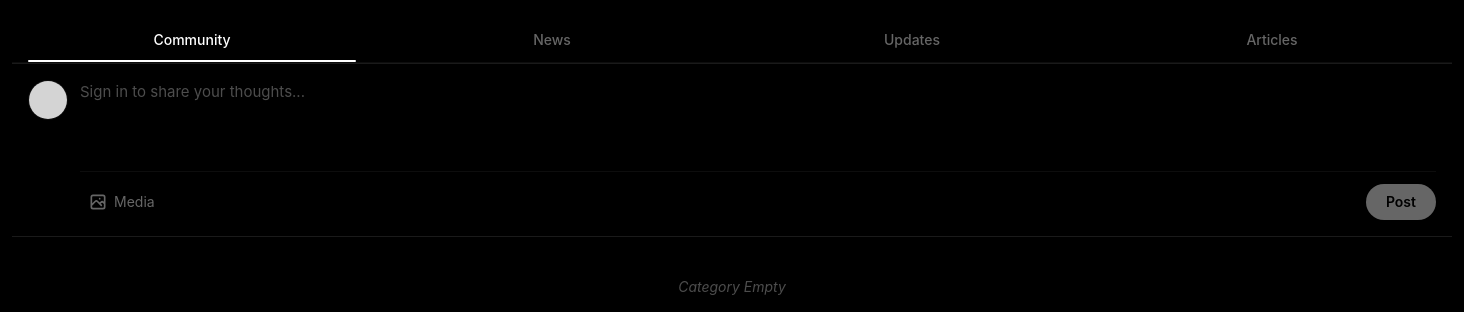
Test case: FeedPage › the Articles tab › offers the same Following toggle and category chips
The image size is (1464, 312).
Click the button "Articles" at (1272, 40), box left=1092, top=18, right=1452, bottom=62
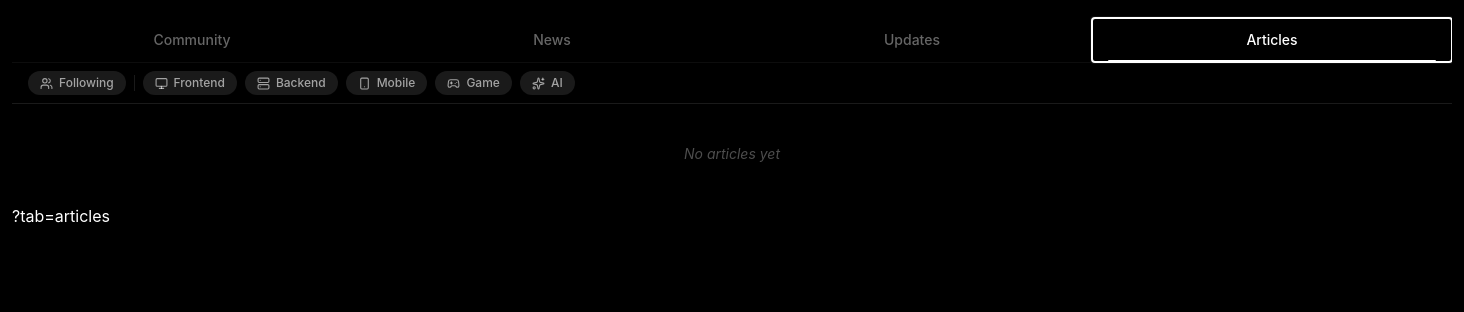
Expected: the button "Following" is shown, left=28, top=71, right=126, bottom=95
Expected: the button "Backend" is shown, left=245, top=71, right=338, bottom=95
